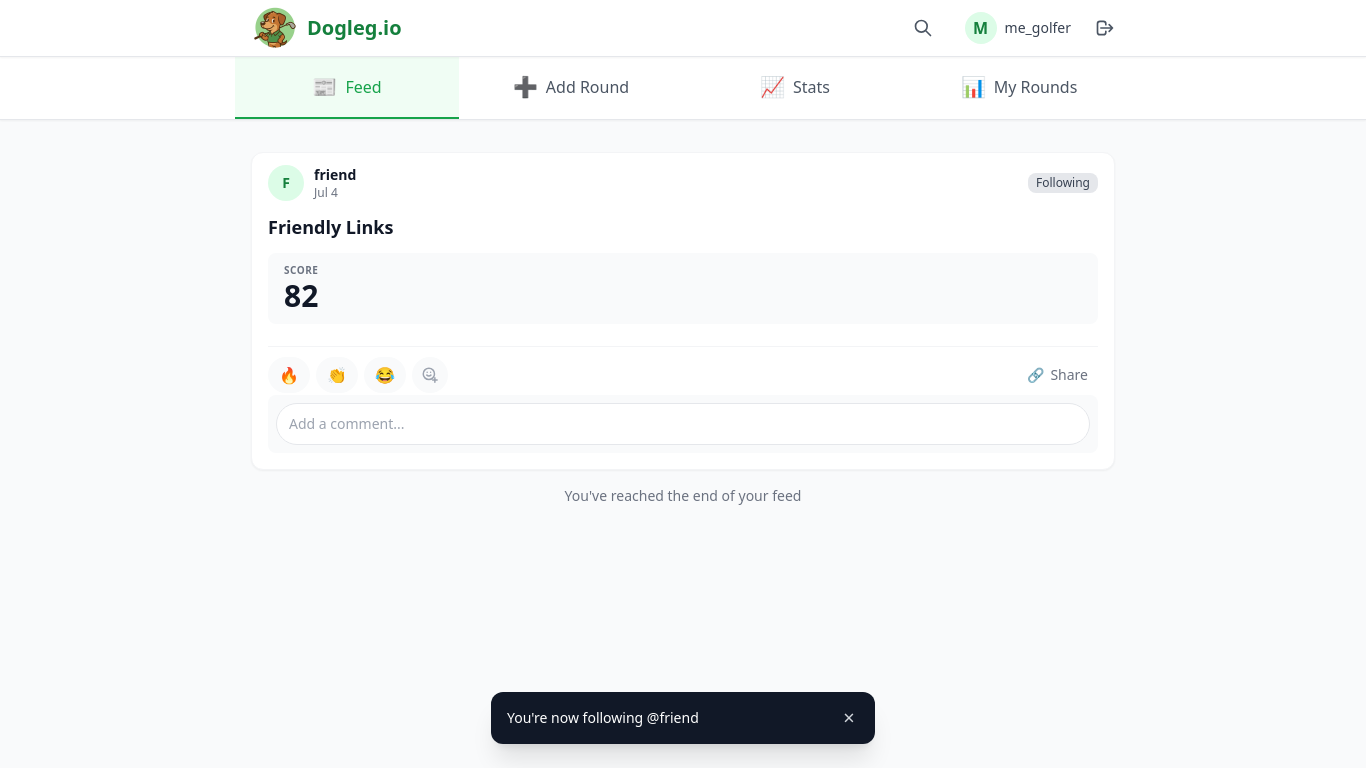
Test: invite links, signed in › a friend's invite opened before signing up is followed once the account is ready
The image size is (1366, 768).
Expected: the text "You're now following @friend" is shown, [507, 708, 699, 727]
Expected: the element that starts with "friend" is shown, [251, 152, 1115, 470]
What coordinates should you click on to do the following:
click the button named "Dismiss"
I would click on:
 (849, 718)
Its box is [827, 696, 871, 740].
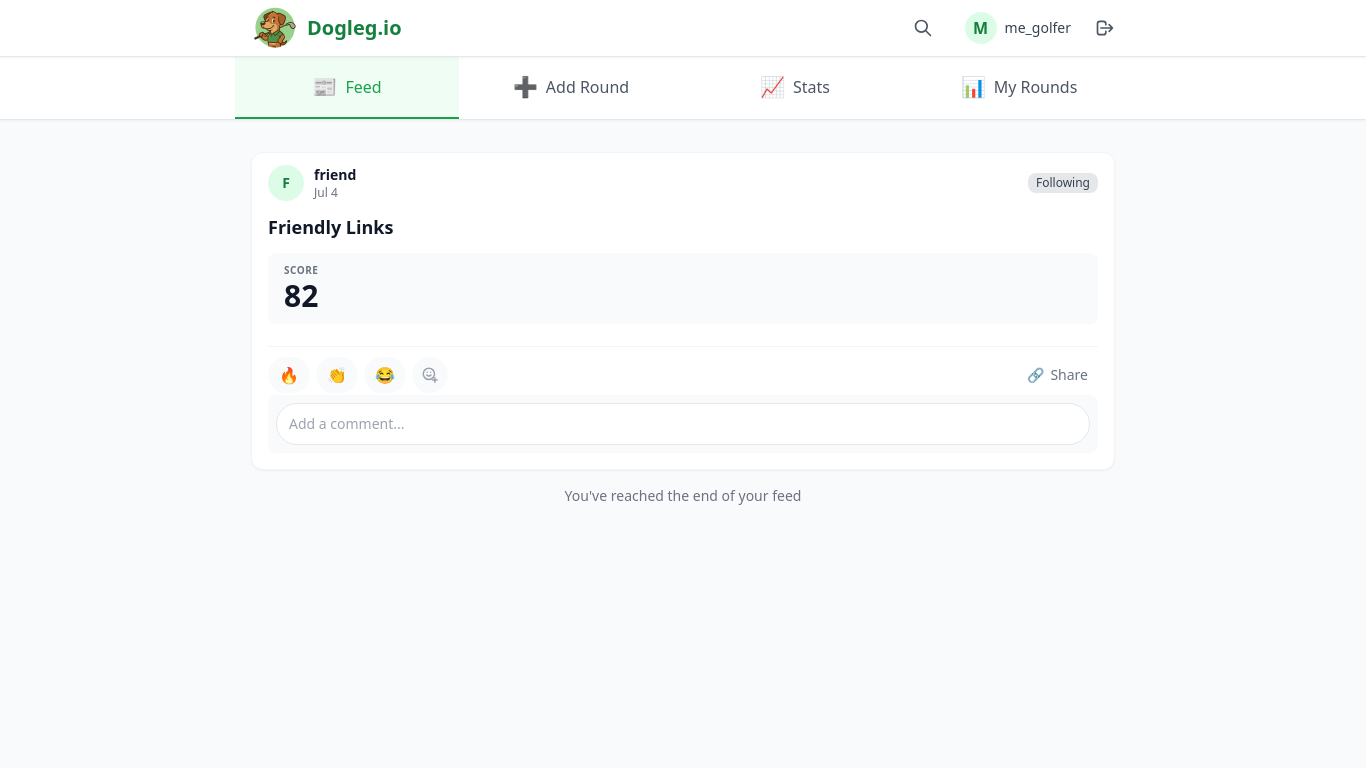
Now the text "You're now following @friend" is gone
